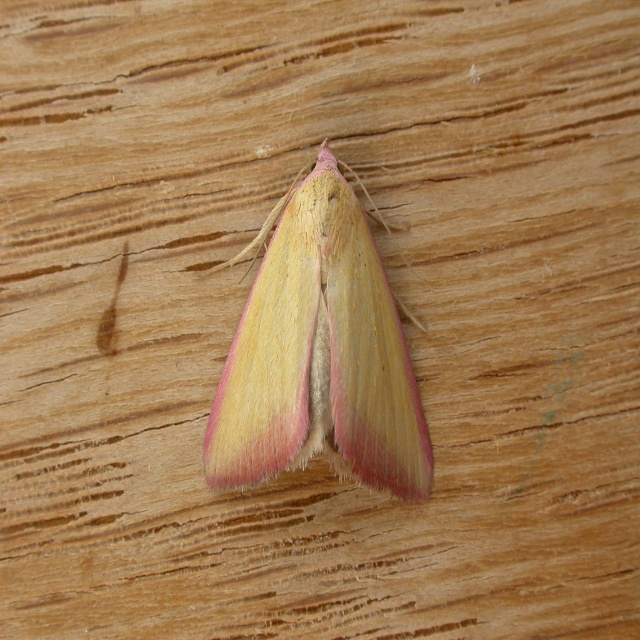Moths and butterflies: (197, 125, 443, 499)
